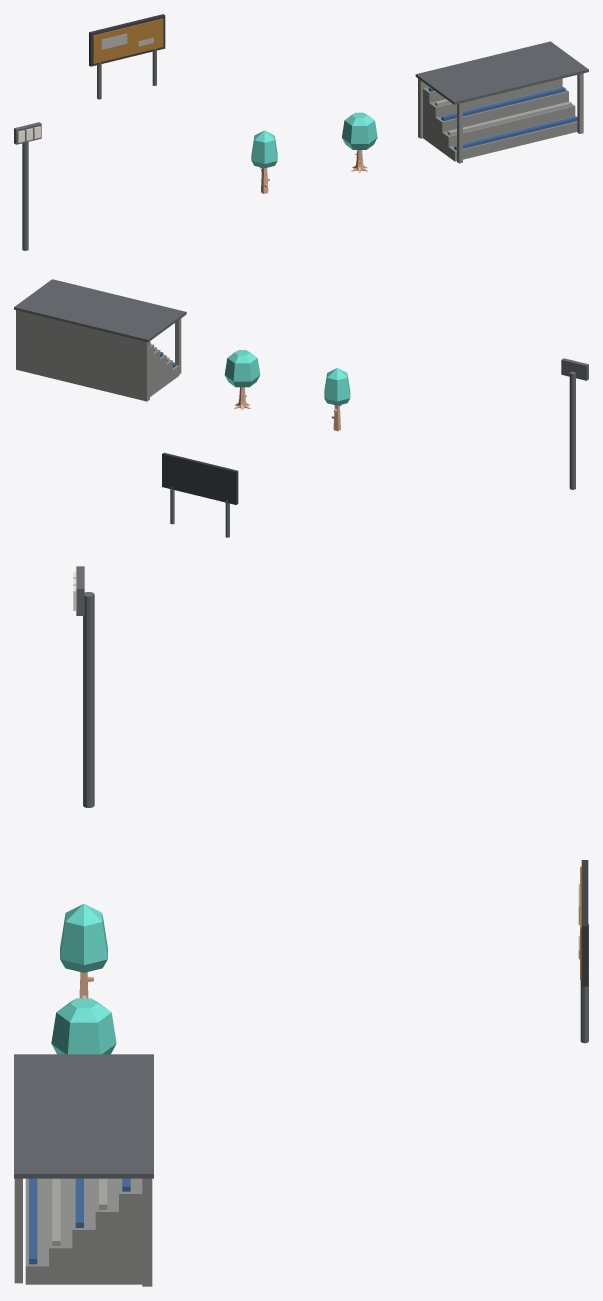
File: decor_stadium.glb
3 renders of one model, top to bottom at view 1: azimuth 30°, elevation 25°; view 2: azimuth 150°, elevation 25°; view 3: azimuth 270°, elevation 25°, orthographic. The views are drawn at different scales.
Parts seen in each view (by area): view 1: Tribun, Reklam, Agac2, Direk, Agac1; view 2: Tribun, Reklam, Agac2, Direk, Agac1; view 3: Tribun, Agac2, Direk, Agac1, Reklam.
Part boxes in pixels (x1=…): Tribun: x1=415, y1=41, x2=588, y2=163; Reklam: x1=89, y1=14, x2=165, y2=99; Agac2: x1=342, y1=112, x2=377, y2=172; Direk: x1=14, y1=122, x2=41, y2=250; Agac1: x1=251, y1=130, x2=277, y2=193; Tribun: x1=14, y1=279, x2=186, y2=401; Reklam: x1=162, y1=452, x2=238, y2=537; Agac2: x1=224, y1=350, x2=260, y2=410; Direk: x1=561, y1=358, x2=588, y2=489; Agac1: x1=324, y1=368, x2=350, y2=431; Tribun: x1=14, y1=1054, x2=153, y2=1286; Agac2: x1=51, y1=998, x2=116, y2=1054; Direk: x1=73, y1=566, x2=94, y2=807; Agac1: x1=60, y1=904, x2=107, y2=998; Reklam: x1=578, y1=860, x2=588, y2=1043.
Size of the model in its own units: 70.1 by 15.1 by 34.51.
